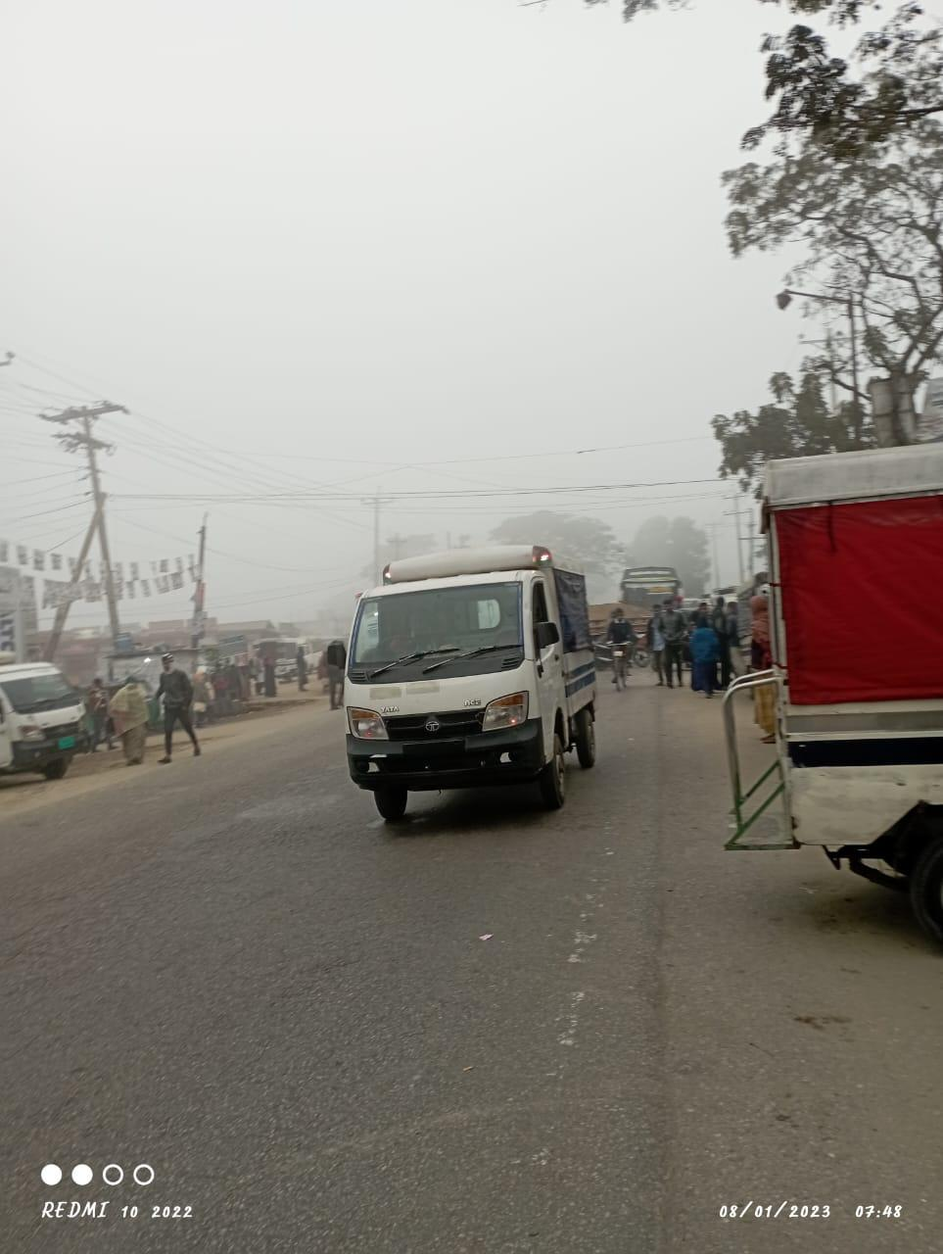Bus: (620, 559, 685, 640)
Car: (338, 536, 608, 831), (4, 658, 92, 777)
